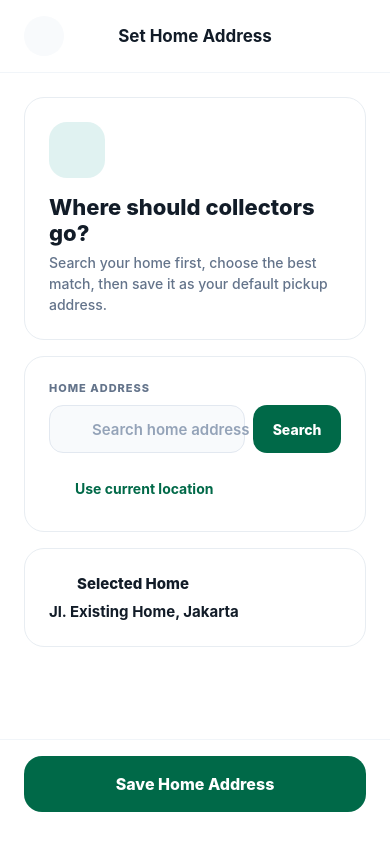
Home address setup flow › shows address recommendations while typing before pressing search
Type "Monas Jakarta" into the field with placeholder "Search home address". click: (212, 429)
box: [92,420,332,438]
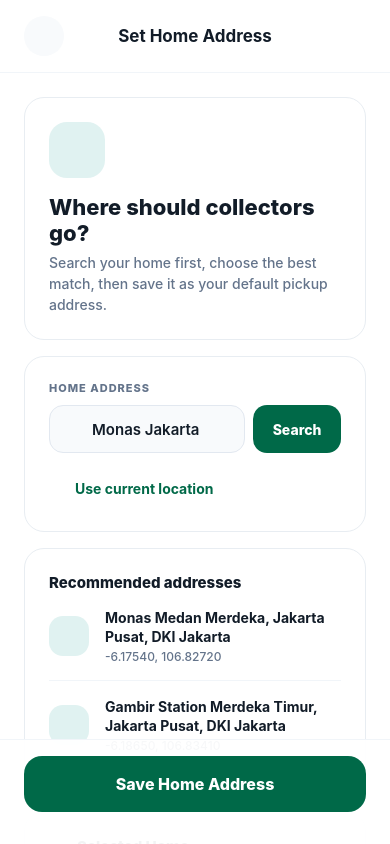
Expected: the text "Recommended addresses" is shown, [49,573,241,592]
Expected: the text "Monas Medan Merdeka, Jakarta Pusat, DKI Jakarta" is shown, [105,608,341,646]
Expected: the text "Gambir Station Merdeka Timur, Jakarta Pusat, DKI Jakarta" is shown, [105,697,341,735]
